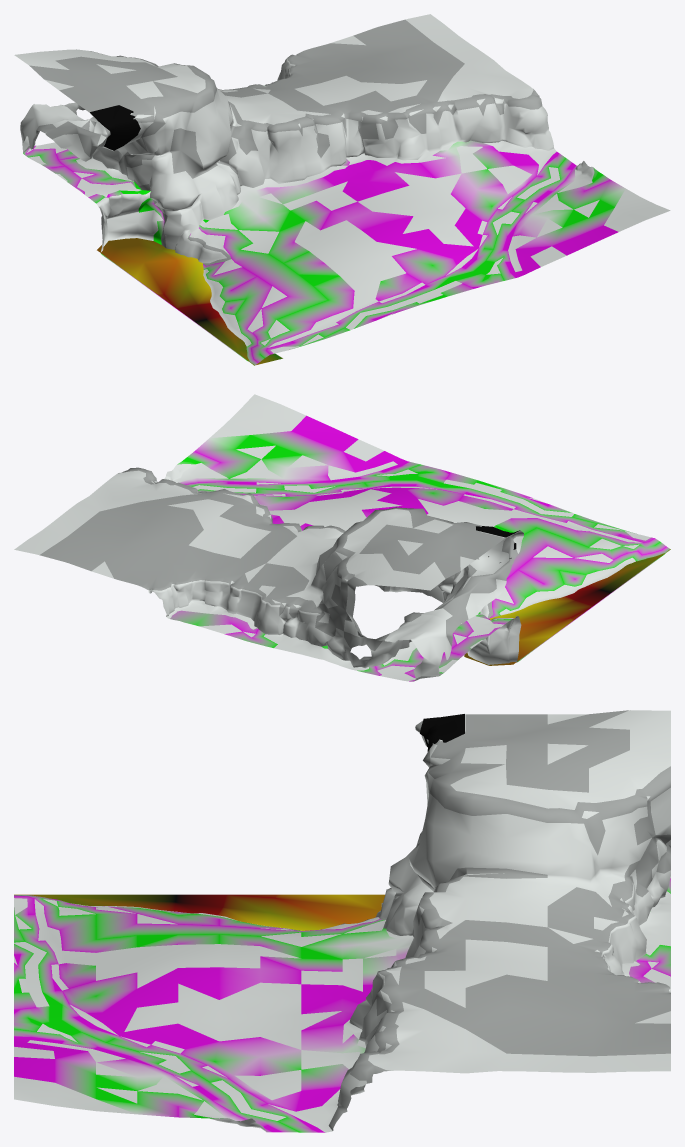
3 views of the same model, one above another, from view 1: azimuth 30°, elevation 25°; view 2: azimuth 150°, elevation 25°; view 3: azimuth 270°, elevation 25° (orthographic). The views are drawn at different scales.
Parts seen in each view (by area): view 1: G:\FFXIV-MapTools\exports\f1f1\bg\ffxiv\fst_f1\fld\f1f1\bgpl (×22); view 2: G:\FFXIV-MapTools\exports\f1f1\bg\ffxiv\fst_f1\fld\f1f1\bgpl (×19); view 3: G:\FFXIV-MapTools\exports\f1f1\bg\ffxiv\fst_f1\fld\f1f1\bgpl (×17).
Boxes of the visible parts, box(x1,y1,x2,y2) form: G:\FFXIV-MapTools\exports\f1f1\bg\ffxiv\fst_f1\fld\f1f1\bgpl (×22): box(14, 14, 670, 365); G:\FFXIV-MapTools\exports\f1f1\bg\ffxiv\fst_f1\fld\f1f1\bgpl (×19): box(14, 394, 670, 681); G:\FFXIV-MapTools\exports\f1f1\bg\ffxiv\fst_f1\fld\f1f1\bgpl (×17): box(14, 710, 670, 1132).
Size of the model in its own units: 128 by 40.37 by 128.
